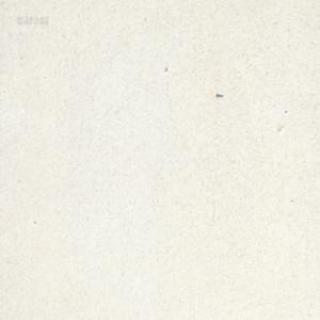Nailtrack_idkeyframe: (214, 92, 222, 97)
